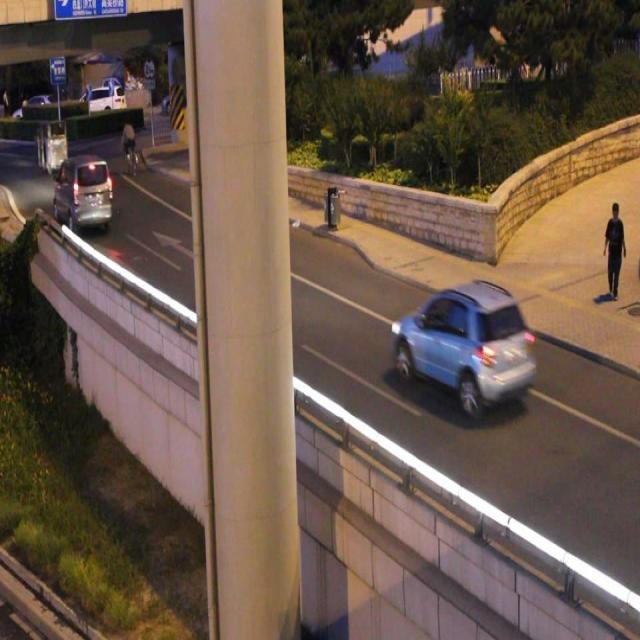car: (394, 281, 535, 400), (56, 156, 111, 226)
